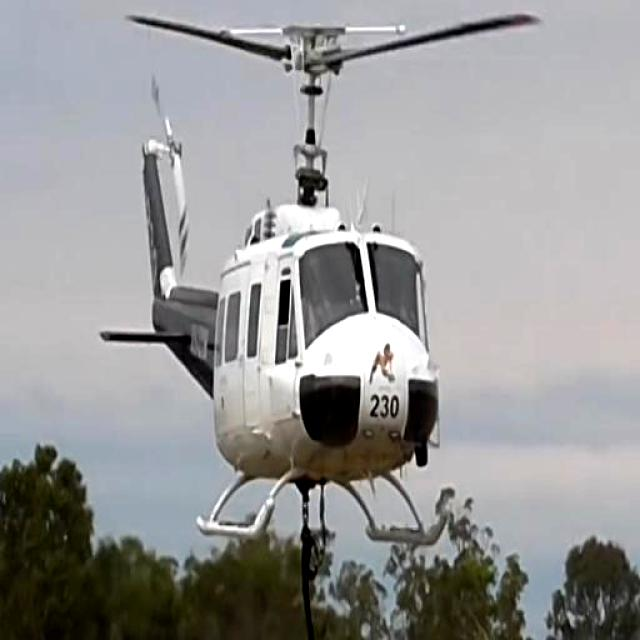drone: (102, 0, 552, 555)
